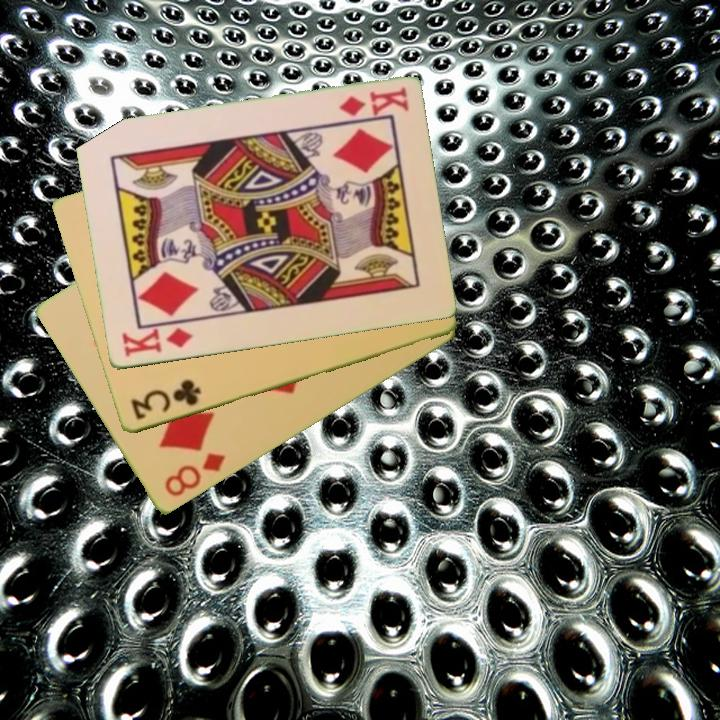3c: (127, 376, 204, 423)
8d: (161, 450, 228, 501)
Kd: (335, 84, 411, 120), (118, 325, 196, 360)
